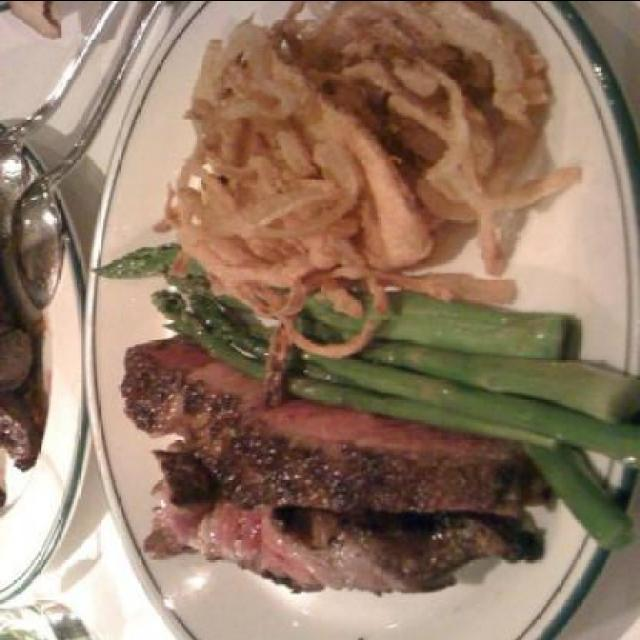Steak: (94, 346, 532, 598)
